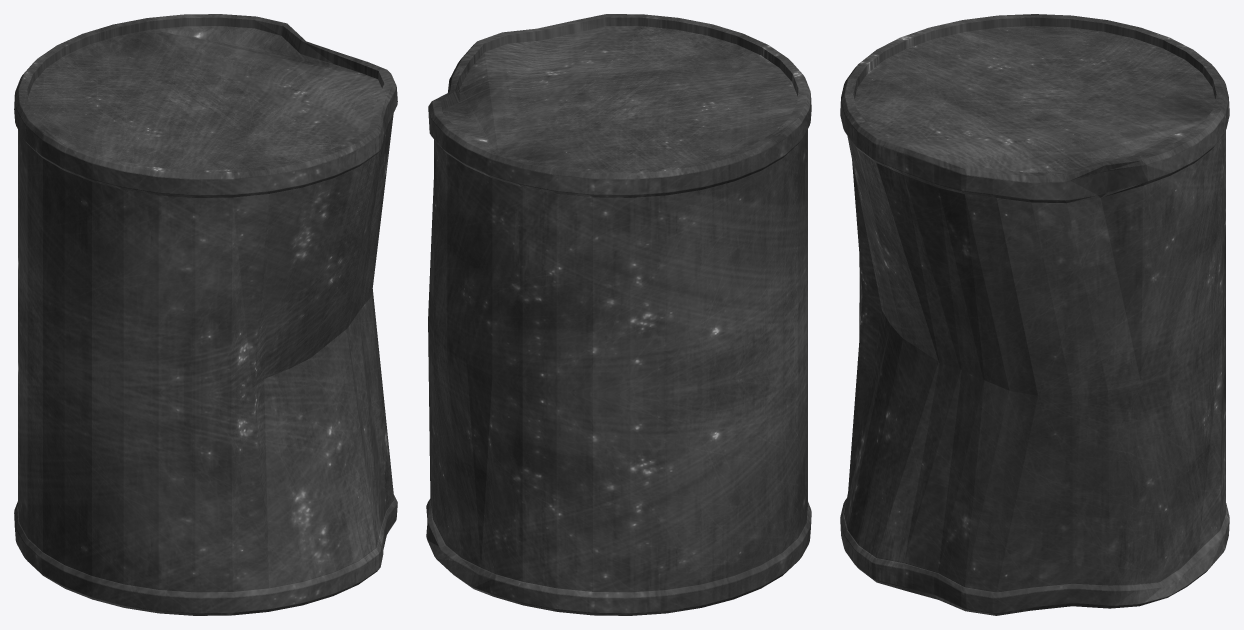
The model's file is Dented Can Black.fbx.
The picture shows the model from 3 angles, left to right: view 1: azimuth 30°, elevation 25°; view 2: azimuth 150°, elevation 25°; view 3: azimuth 270°, elevation 25°; orthographic projection.
Visible parts, largest first — view 1: Dented Can Black; view 2: Dented Can Black; view 3: Dented Can Black.
Part boxes in pixels (<box>): Dented Can Black: <box>14,14,397,615</box>; Dented Can Black: <box>426,14,811,615</box>; Dented Can Black: <box>840,14,1229,615</box>.
Size of the model in its own units: 12.32 by 15.86 by 12.45.
Materials: 1 (1 with a texture image).
